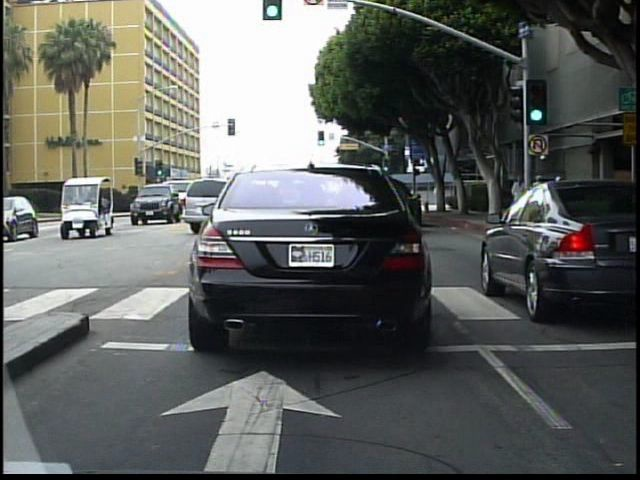person: (529, 175, 554, 221), (510, 174, 529, 226), (435, 184, 449, 212)
